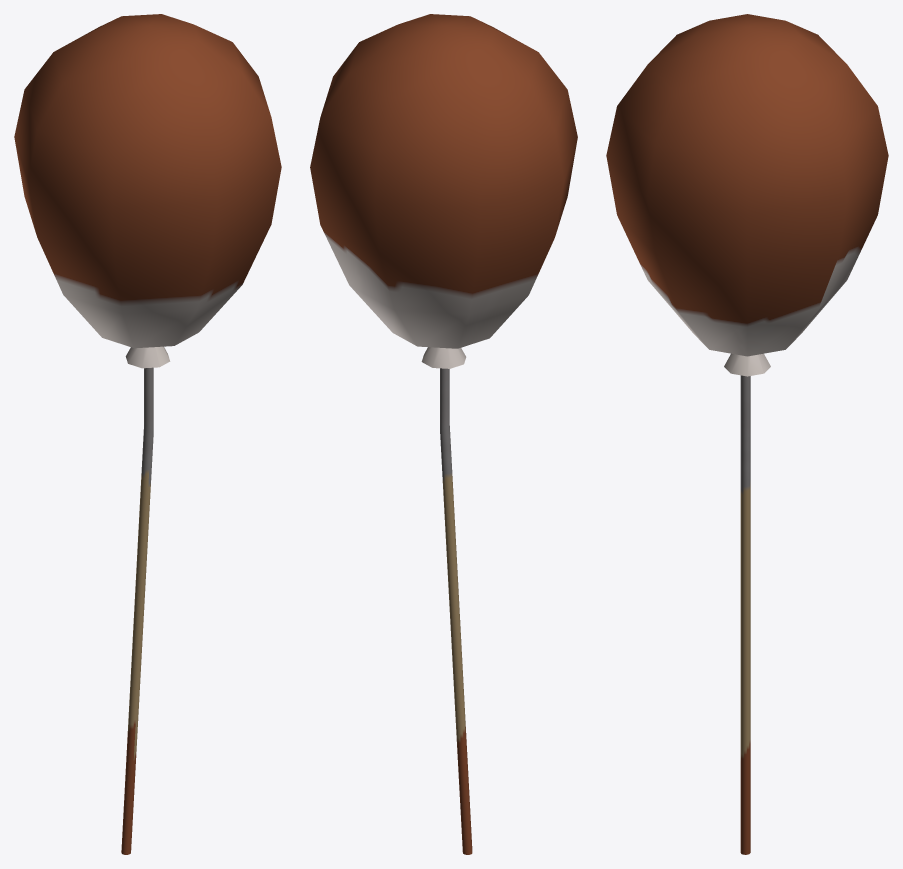
The model's file is Balloon3.fbx.
3 views of the same model, side by side, from view 1: azimuth 30°, elevation 25°; view 2: azimuth 150°, elevation 25°; view 3: azimuth 270°, elevation 25° (orthographic).
Visible parts, largest first — view 1: polySurface223; view 2: polySurface223; view 3: polySurface223.
Part boxes in pixels (<box>): polySurface223: <box>14,14,281,854</box>; polySurface223: <box>310,14,577,854</box>; polySurface223: <box>606,14,888,854</box>.
Bounding box in the file's own units: 0.4182 × 1.37 × 0.4182.
